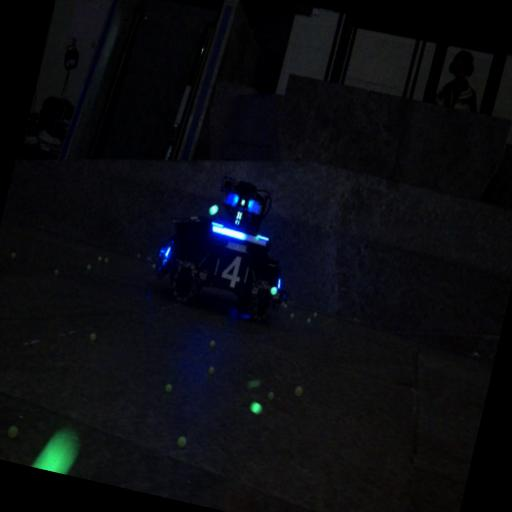target: (208, 244, 254, 301)
